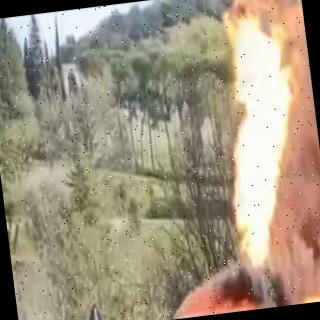smoke: (275, 0, 320, 276)
